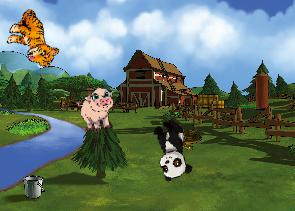panda: (148, 116, 194, 182)
pig: (75, 86, 120, 134)
tiger: (0, 5, 69, 71)
